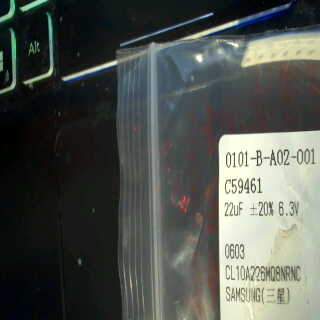22uF: (223, 199, 247, 219)
